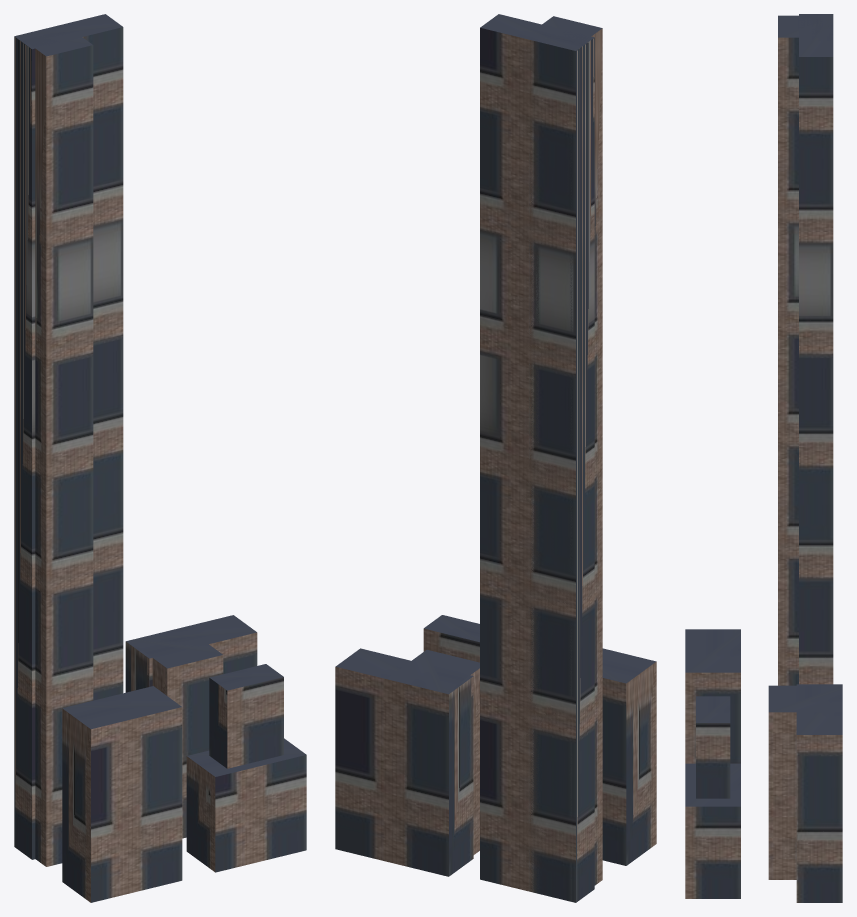
The model's file is block_15.obj.
The picture shows the model from 3 angles, left to right: view 1: azimuth 30°, elevation 25°; view 2: azimuth 150°, elevation 25°; view 3: azimuth 270°, elevation 25°; orthographic projection. The views are drawn at different scales.
Visible parts, largest first — view 1: b0, b1, b3, b2; view 2: b0, b2, b1, b3; view 3: b0, b2, b3, b1.
Boxes of the visible parts, x1=… form: b0: x1=14, y1=14, x2=123, y2=866; b1: x1=62, y1=686, x2=182, y2=902; b3: x1=186, y1=664, x2=306, y2=872; b2: x1=125, y1=615, x2=257, y2=838; b0: x1=480, y1=14, x2=602, y2=902; b2: x1=335, y1=648, x2=479, y2=876; b1: x1=602, y1=648, x2=656, y2=865; b3: x1=423, y1=615, x2=479, y2=662; b0: x1=778, y1=14, x2=833, y2=685; b2: x1=768, y1=684, x2=842, y2=902; b3: x1=685, y1=696, x2=740, y2=898; b1: x1=685, y1=629, x2=740, y2=763.
Size of the model in its own units: 4.05 by 14 by 2.55.
